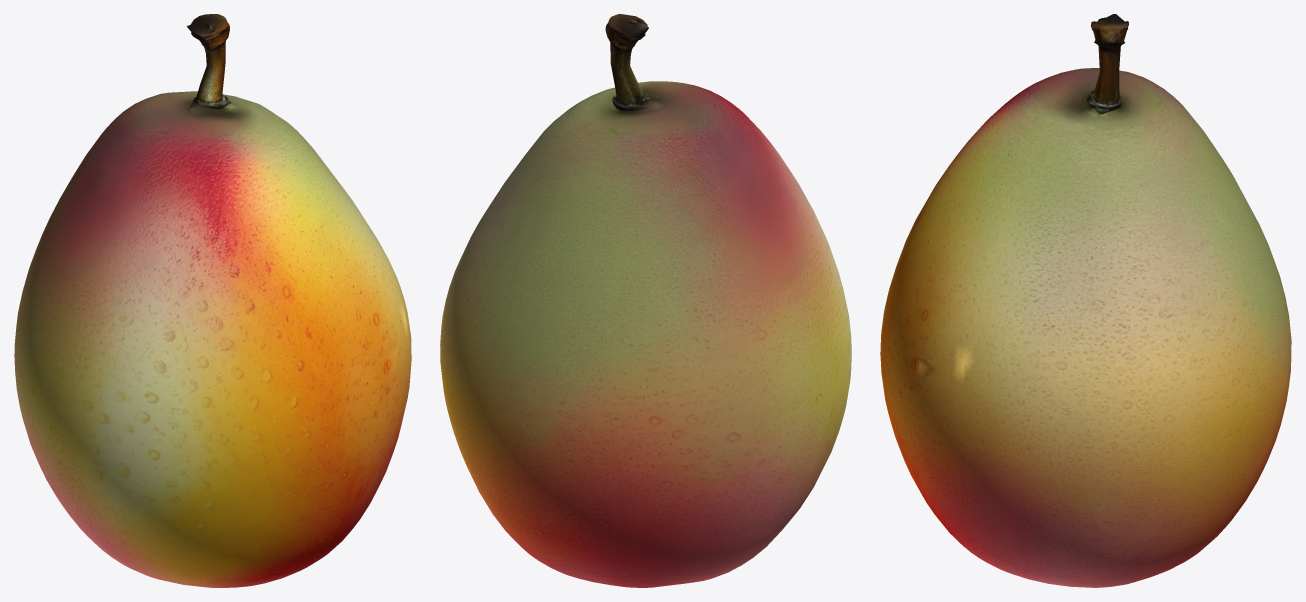
File: f-mango-whole.glb
3 renders of one model, left to right at view 1: azimuth 30°, elevation 25°; view 2: azimuth 150°, elevation 25°; view 3: azimuth 270°, elevation 25°, orthographic. The views are drawn at different scales.
Visible parts, largest first — view 1: node_0; view 2: node_0; view 3: node_0.
Boxes of the visible parts, x1,y1,x2,y2 form: node_0: [14, 14, 411, 587]; node_0: [440, 14, 851, 587]; node_0: [880, 14, 1291, 587].
Size of the model in its own units: 0.7948 by 1.17 by 0.8074.
1 material, 1 textured.
